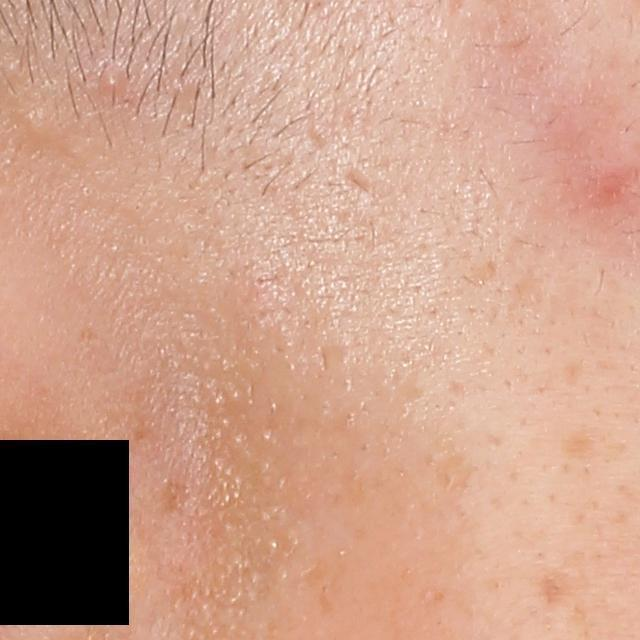atrophic_scar: (336, 165, 378, 202)
comedo: (15, 109, 61, 152), (99, 66, 128, 94)
melasma: (503, 266, 551, 320), (427, 449, 475, 498), (164, 481, 194, 519)
